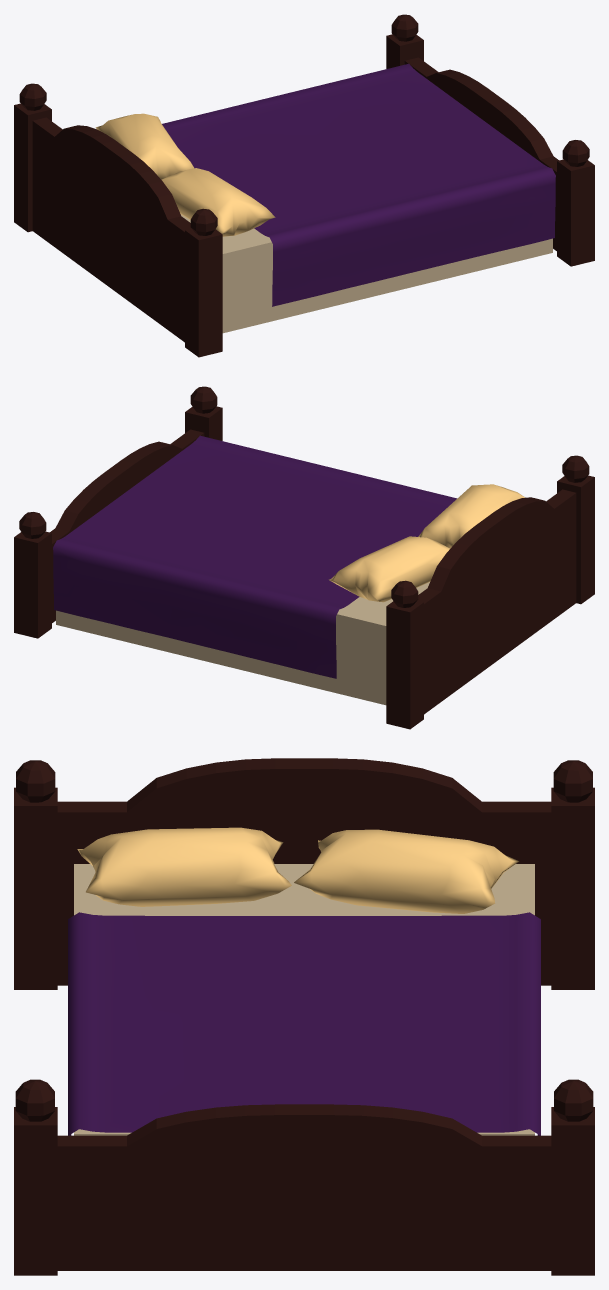
File: Bed.fbx
3 renders of one model, top to bottom at view 1: azimuth 30°, elevation 25°; view 2: azimuth 150°, elevation 25°; view 3: azimuth 270°, elevation 25°, orthographic. The views are drawn at different scales.
Parts seen in each view (by area): view 1: Blanky, Headboard, Baseboard, Mattress, Pillow, Pillow2; view 2: Blanky, Headboard, Baseboard, Mattress, Pillow2, Pillow; view 3: Blanky, Baseboard, Headboard, Pillow, Pillow2, Mattress.
Part boxes in pixels (left/top/right/bottom): Blanky: left=162, top=63, right=555, bottom=306; Headboard: left=14, top=83, right=222, bottom=357; Baseboard: left=386, top=14, right=594, bottom=266; Mattress: left=181, top=214, right=552, bottom=333; Pillow: left=161, top=168, right=275, bottom=236; Pillow2: left=95, top=113, right=193, bottom=179; Blanky: left=53, top=435, right=456, bottom=678; Headboard: left=386, top=455, right=594, bottom=729; Baseboard: left=14, top=386, right=222, bottom=638; Mattress: left=56, top=582, right=429, bottom=705; Pillow2: left=329, top=536, right=449, bottom=602; Pillow: left=418, top=484, right=524, bottom=548; Blanky: left=68, top=912, right=540, bottom=1135; Baseboard: left=14, top=1079, right=594, bottom=1275; Headboard: left=14, top=758, right=594, bottom=989; Pillow: left=77, top=827, right=291, bottom=906; Pillow2: left=294, top=829, right=518, bottom=913; Mattress: left=74, top=864, right=534, bottom=1135.
Size of the model in its own units: 1046 by 353 by 845.
